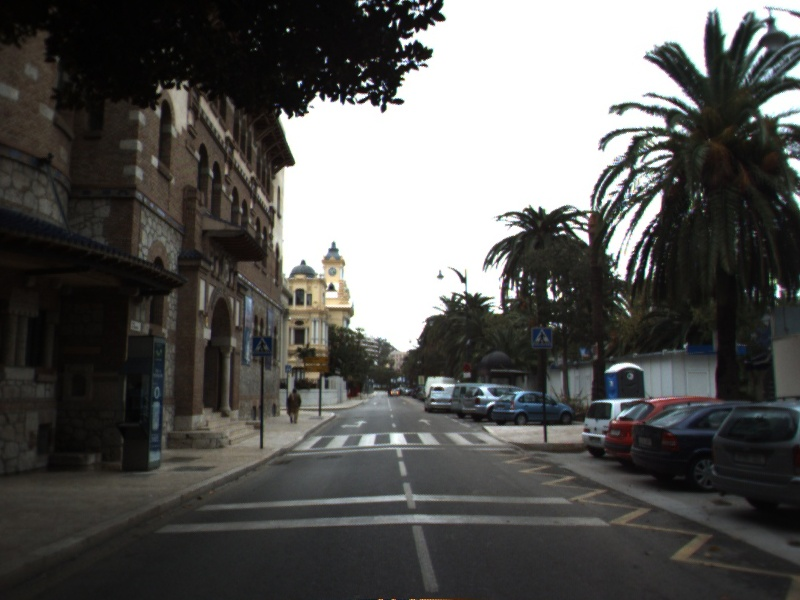STRAIGHT: (416, 416, 434, 427)
STRAIGHT_LEFT: (338, 418, 369, 430)
